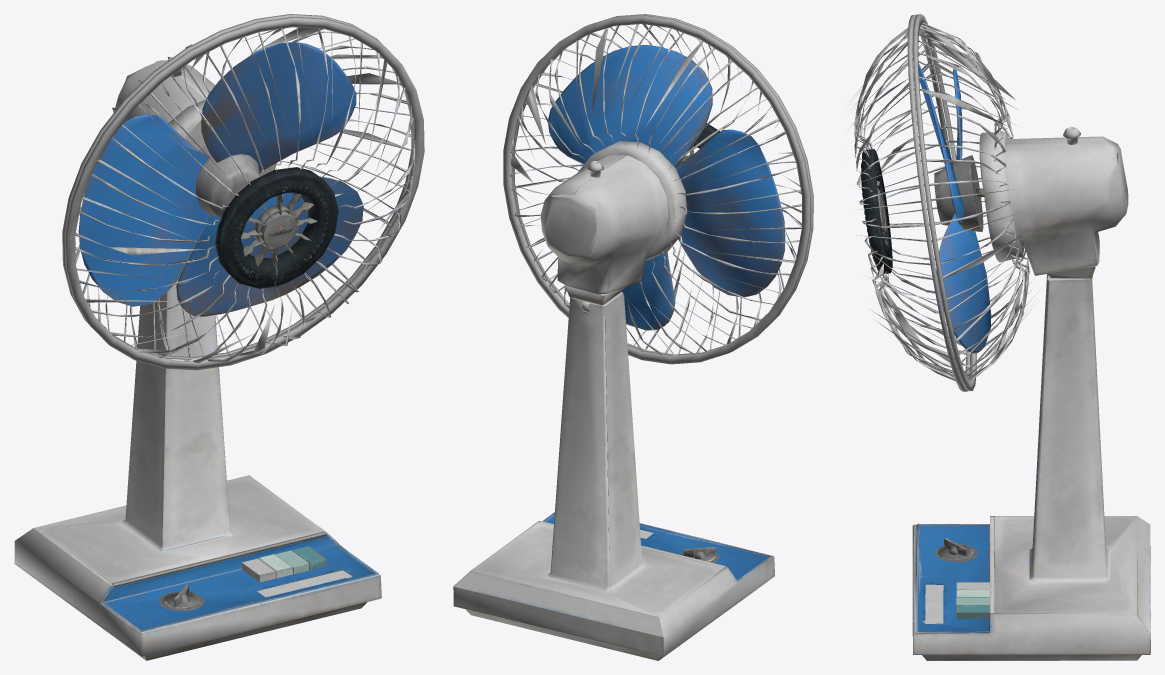
File: item_fan_goldstar.glb
The picture shows the model from 3 angles, left to right: view 1: azimuth 30°, elevation 25°; view 2: azimuth 150°, elevation 25°; view 3: azimuth 270°, elevation 25°; orthographic projection. The views are drawn at different scales.
Visible parts, largest first — view 1: fan_goldstar; view 2: fan_goldstar; view 3: fan_goldstar.
Part boxes in pixels (box(x1,y1,x2,y2)): fan_goldstar: box(14, 14, 424, 660); fan_goldstar: box(453, 14, 813, 660); fan_goldstar: box(845, 14, 1150, 660).
Size of the model in its own units: 0.4888 by 0.8201 by 0.3967.
Materials: 2 (2 with a texture image).
